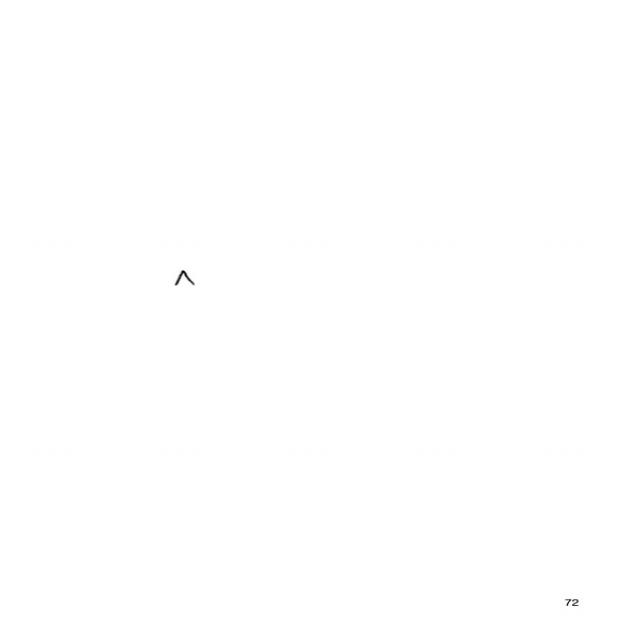8 -eight-: (170, 268, 198, 288)
